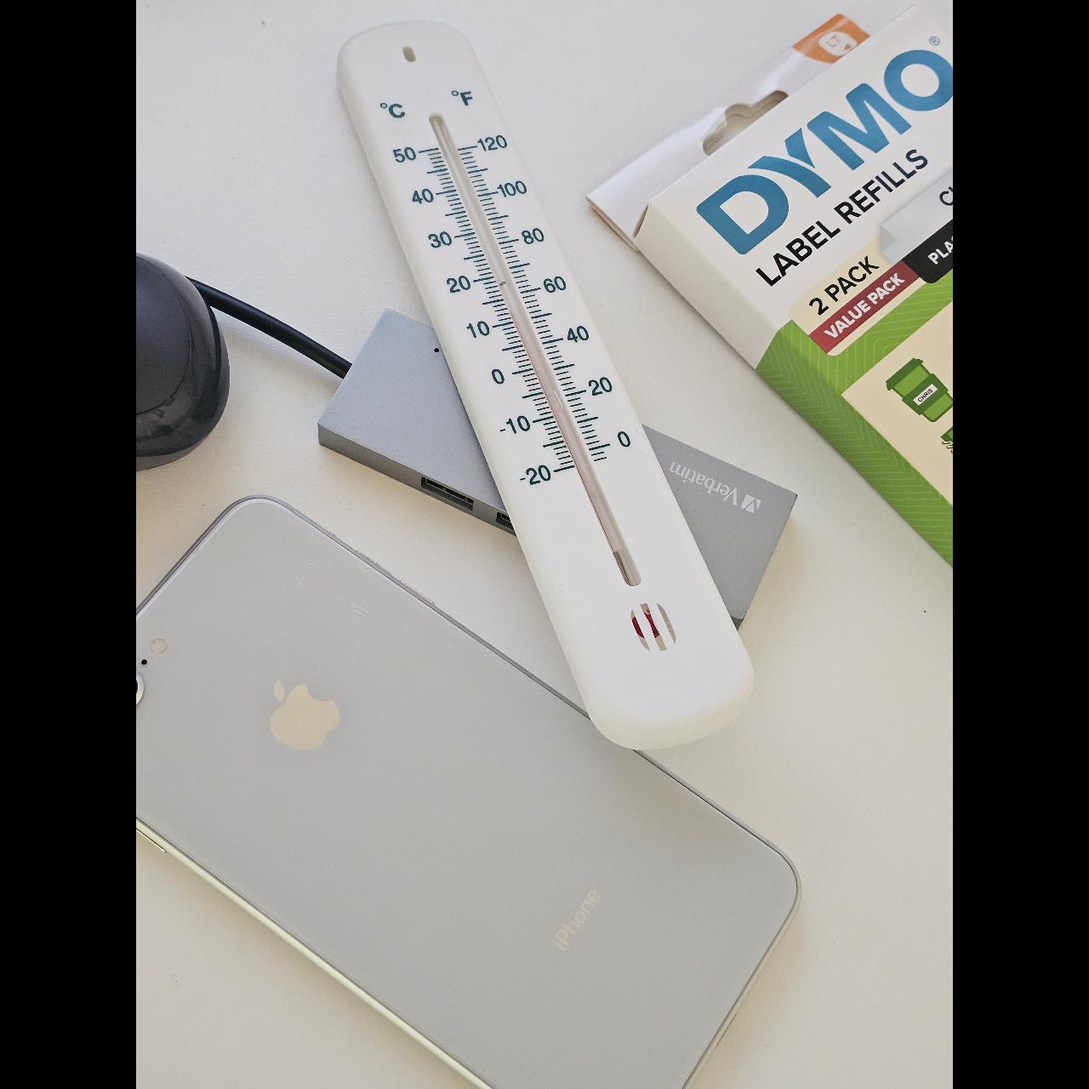thermometer: (337, 13, 754, 754)
